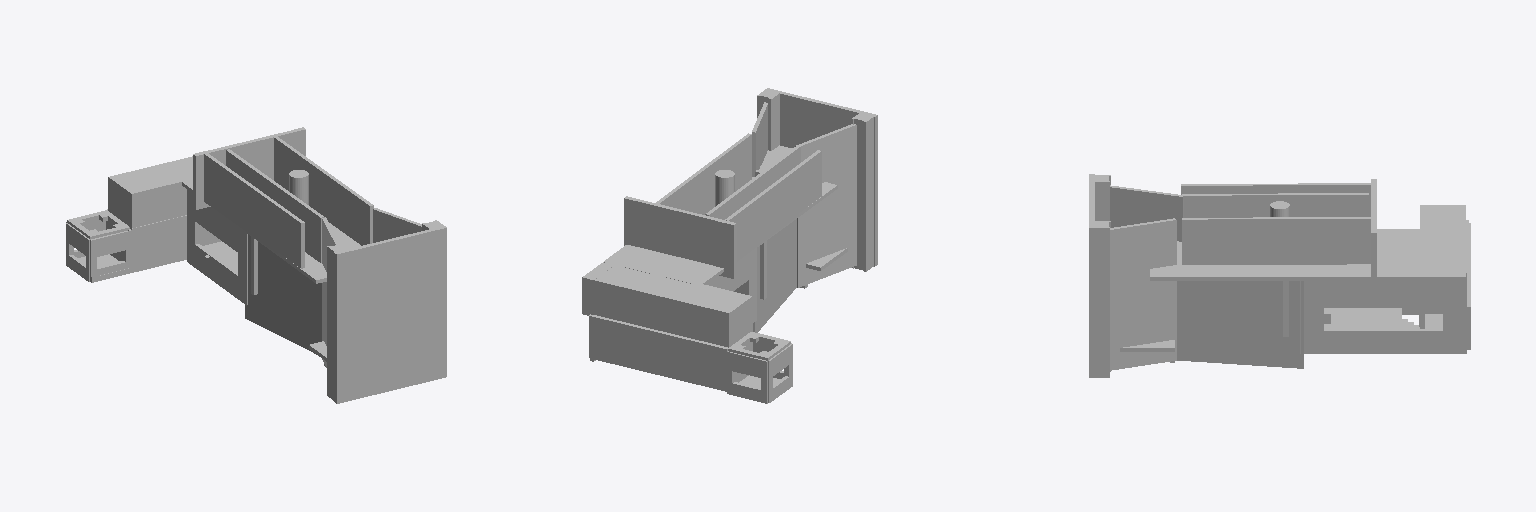
3 views of the same model, side by side, from view 1: azimuth 30°, elevation 25°; view 2: azimuth 150°, elevation 25°; view 3: azimuth 270°, elevation 25° (orthographic).
Visible parts, largest first — view 1: wall_wa, 큐브.012, 큐브.024_큐브.026, 큐브.004, 큐브.022, 평면.005_평면.008, 큐브.002, mvc5, 평면.001_평면.003, 큐브.021, wall.002_wa.003, 큐브.019 (+6 smaller); view 2: 큐브.004, 큐브.018_큐브.017, 큐브.003, mvc5, 큐브.024_큐브.026, wall_wa, 큐브.022, 큐브.012, 큐브.009, wall.002_wa.003, 평면_평면.001, 평면.005_평면.008 (+7 smaller); view 3: 큐브.013, 큐브.022, 큐브.019, 평면.004_평면.007, 큐브.009, 큐브.004, 큐브.018_큐브.017, wall.001_wa.002, 큐브.024_큐브.026, 큐브.023_큐브.025, 큐브.021, 큐브.008 (+4 smaller).
Part boxes in pixels (x1,y1,x2,y2): wall_wa: (334, 227, 446, 403); 큐브.012: (245, 234, 321, 354); 큐브.024_큐브.026: (204, 153, 304, 268); 큐브.004: (108, 156, 192, 227); 큐브.022: (274, 136, 373, 245); 평면.005_평면.008: (187, 190, 247, 305); 큐브.002: (130, 215, 220, 270); mvc5: (193, 127, 305, 209); 평면.001_평면.003: (90, 231, 128, 276); 큐브.021: (287, 193, 324, 262); wall.002_wa.003: (327, 243, 350, 400); 큐브.019: (373, 208, 421, 242); 큐브.004: (582, 262, 752, 347); 큐브.018_큐브.017: (795, 124, 856, 287); 큐브.003: (589, 314, 727, 391); mvc5: (624, 196, 736, 278); 큐브.024_큐브.026: (725, 150, 821, 261); wall_wa: (765, 88, 877, 266); 큐브.022: (655, 133, 751, 214); 큐브.012: (753, 219, 796, 332); 큐브.009: (604, 166, 837, 285); wall.002_wa.003: (852, 112, 874, 271); 평면_평면.001: (727, 351, 767, 403); 평면.005_평면.008: (707, 248, 756, 322); 큐브.013: (1177, 281, 1303, 368); 큐브.022: (1182, 217, 1371, 264); 큐브.019: (1110, 218, 1176, 370); 평면.004_평면.007: (1300, 271, 1466, 353); 큐브.009: (1150, 229, 1424, 280); 큐브.004: (1420, 205, 1465, 313); 큐브.018_큐브.017: (1110, 185, 1183, 241); wall.001_wa.002: (1091, 221, 1110, 377); 큐브.024_큐브.026: (1181, 183, 1370, 216); 큐브.023_큐브.025: (1295, 193, 1368, 216); 큐브.021: (1182, 194, 1249, 217); 큐브.008: (1324, 308, 1401, 328).
Bounding box in the file's own units: 75.98 × 56.65 × 131.